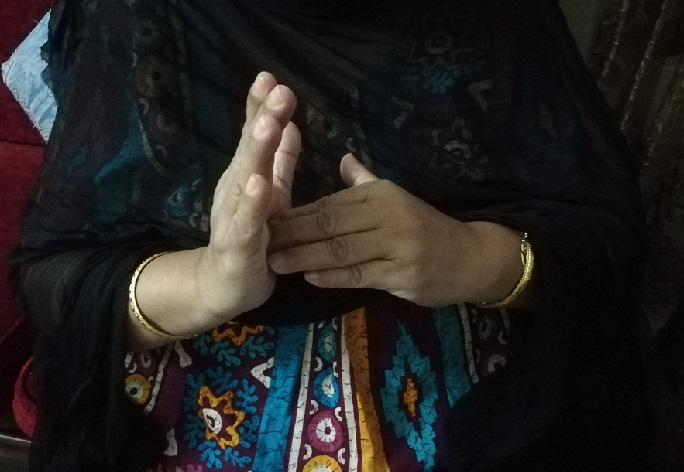ga: (209, 68, 437, 310)
